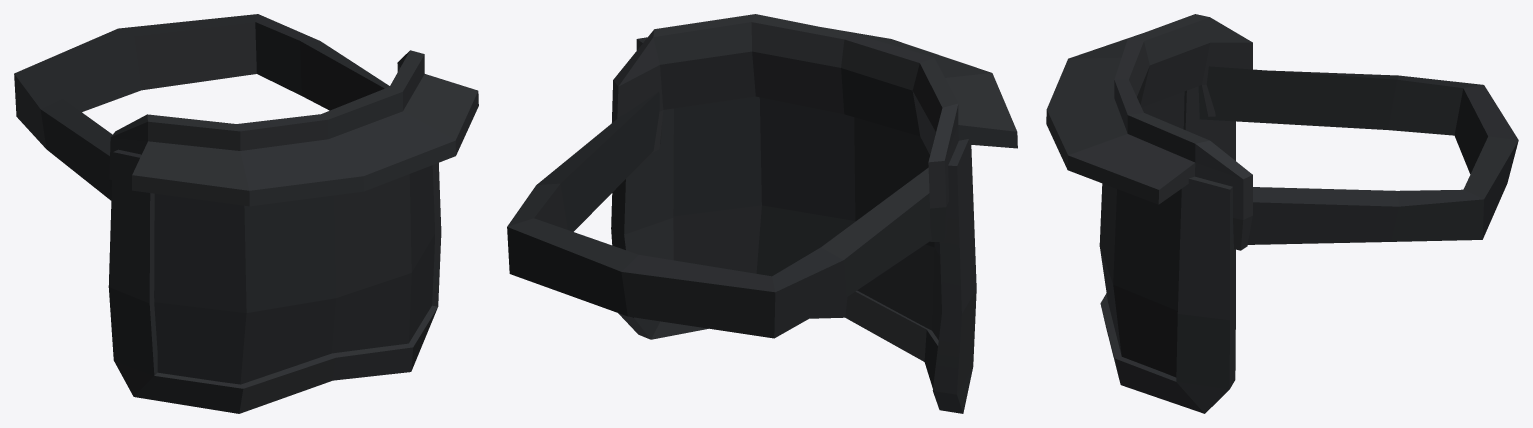
The model's file is SM_Chr_Attach_FaceShield_Mesh_01.fbx.
3 views of the same model, side by side, from view 1: azimuth 30°, elevation 25°; view 2: azimuth 150°, elevation 25°; view 3: azimuth 270°, elevation 25° (orthographic). The views are drawn at different scales.
Visible parts, largest first — view 1: SM_Chr_Attach_FaceShield_Mesh_01, SM_Chr_Attach_FaceShield_Mesh_Screen_01; view 2: SM_Chr_Attach_FaceShield_Mesh_01, SM_Chr_Attach_FaceShield_Mesh_Screen_01; view 3: SM_Chr_Attach_FaceShield_Mesh_01, SM_Chr_Attach_FaceShield_Mesh_Screen_01.
Boxes of the visible parts, <box> form: SM_Chr_Attach_FaceShield_Mesh_01: <box>14,14,478,413</box>; SM_Chr_Attach_FaceShield_Mesh_Screen_01: <box>154,165,434,384</box>; SM_Chr_Attach_FaceShield_Mesh_01: <box>507,14,1017,413</box>; SM_Chr_Attach_FaceShield_Mesh_Screen_01: <box>673,96,941,339</box>; SM_Chr_Attach_FaceShield_Mesh_01: <box>1046,14,1518,413</box>; SM_Chr_Attach_FaceShield_Mesh_Screen_01: <box>1099,91,1184,377</box>.
Size of the model in its own units: 33.51 by 25.73 by 41.14.
